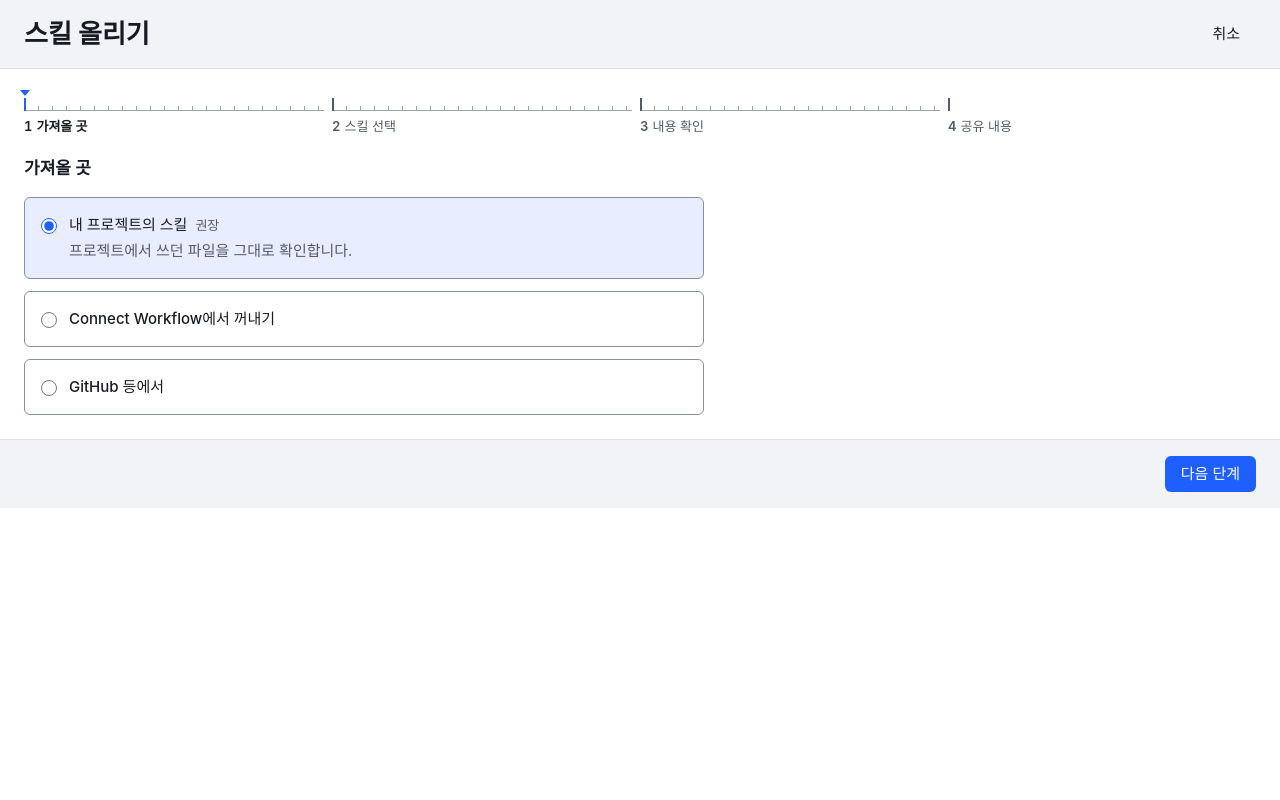
Scenario: registration › offers source skill choices and previews again with the selected name
The width and height of the screenshot is (1280, 800).
Click the radio button labelled "GitHub 등에서".
click(49, 388)  # box top-left (41, 380), bottom-right (57, 396)
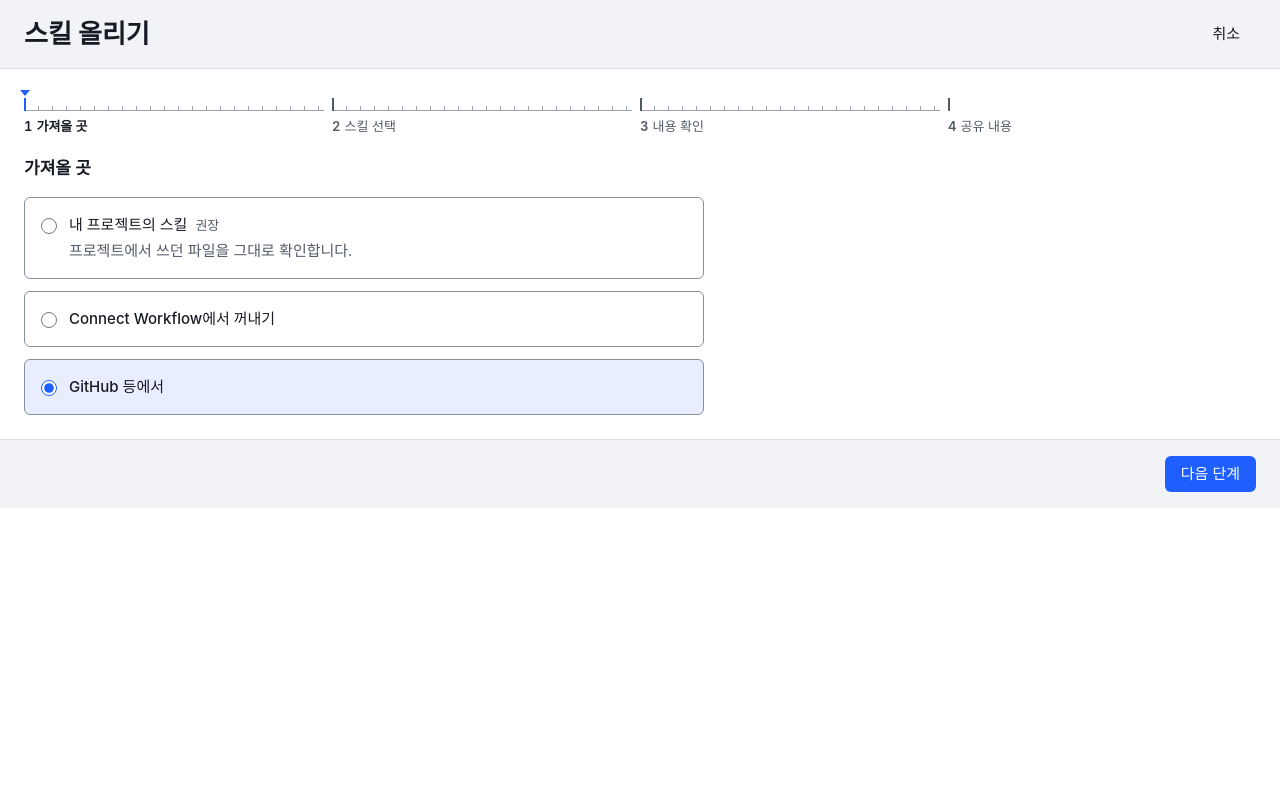
Click the button "다음 단계".
click(1210, 474)  # box top-left (1165, 456), bottom-right (1256, 492)
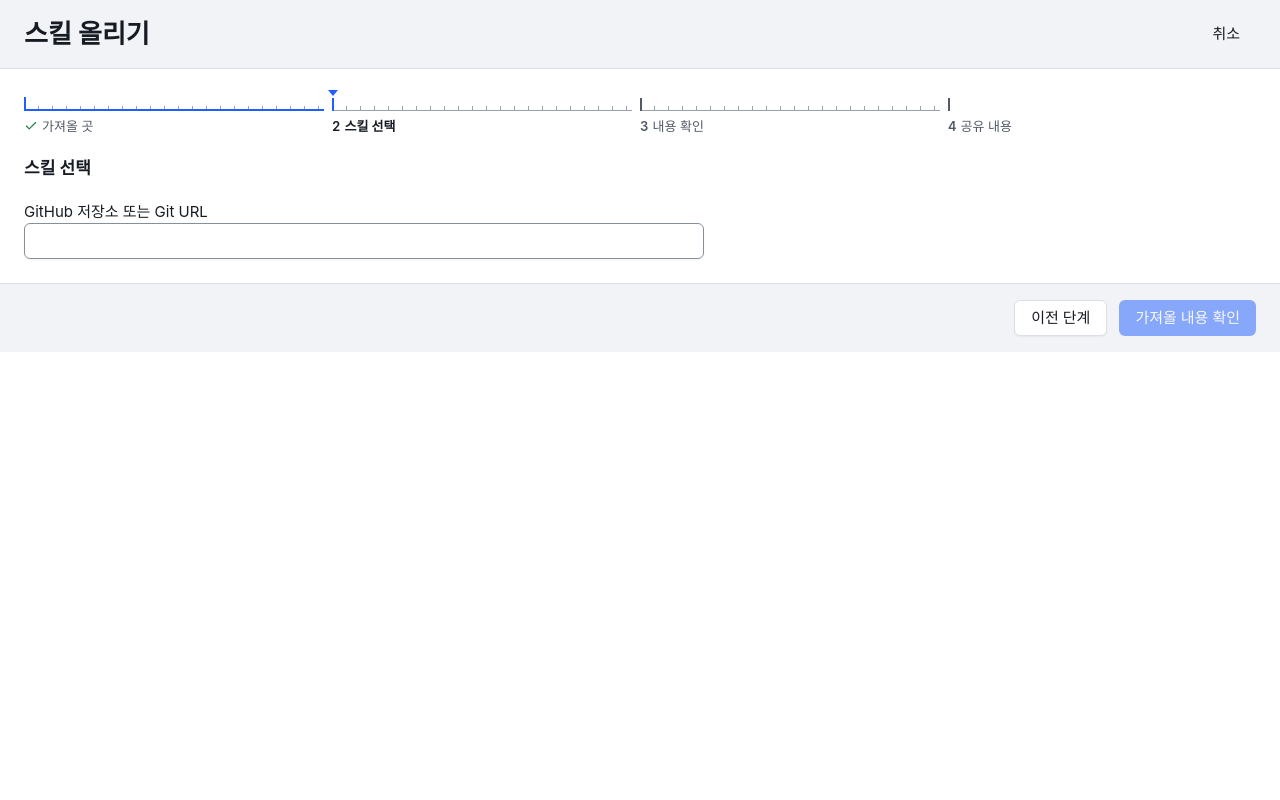
Type "owner/repo" into the field labelled "GitHub 저장소 또는 Git URL".
click(364, 241); type("owner/repo")  # box top-left (24, 223), bottom-right (704, 259)
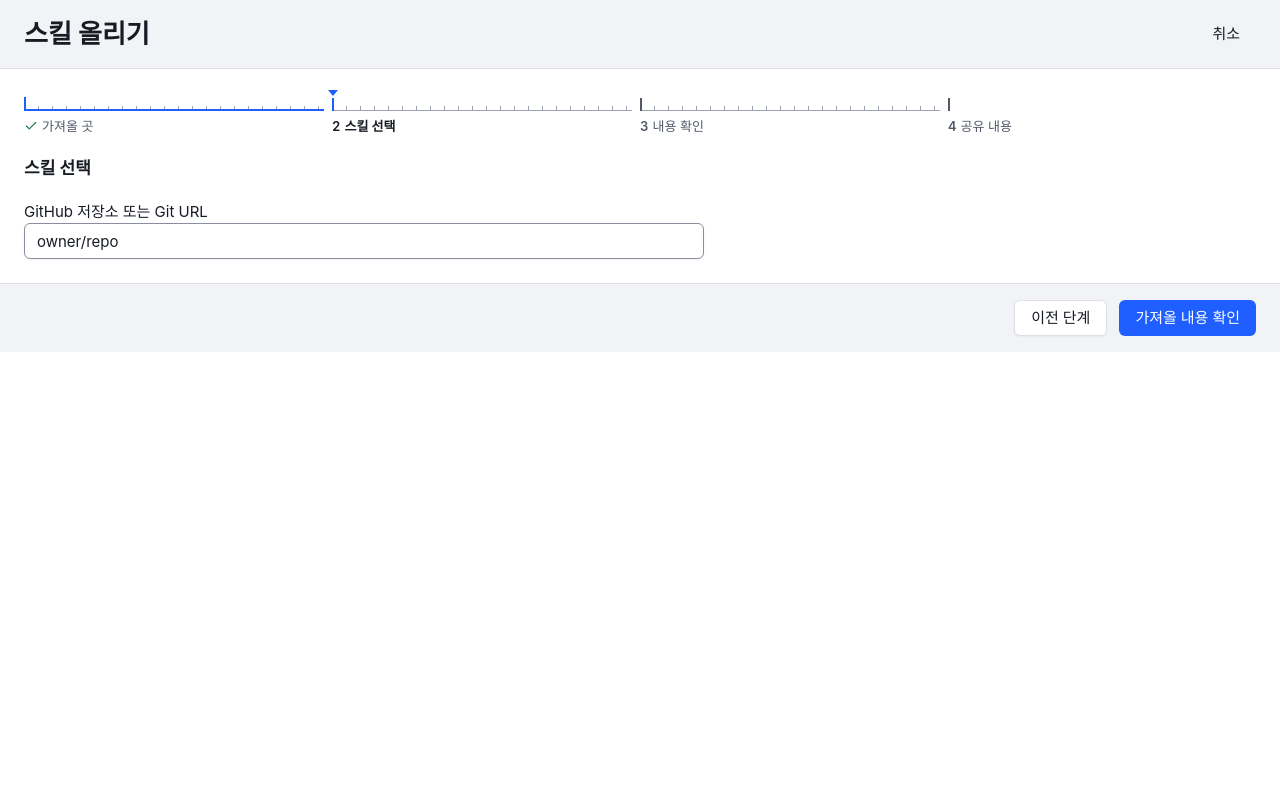
Click the button "가져올 내용 확인".
click(1188, 318)  # box top-left (1119, 300), bottom-right (1256, 336)
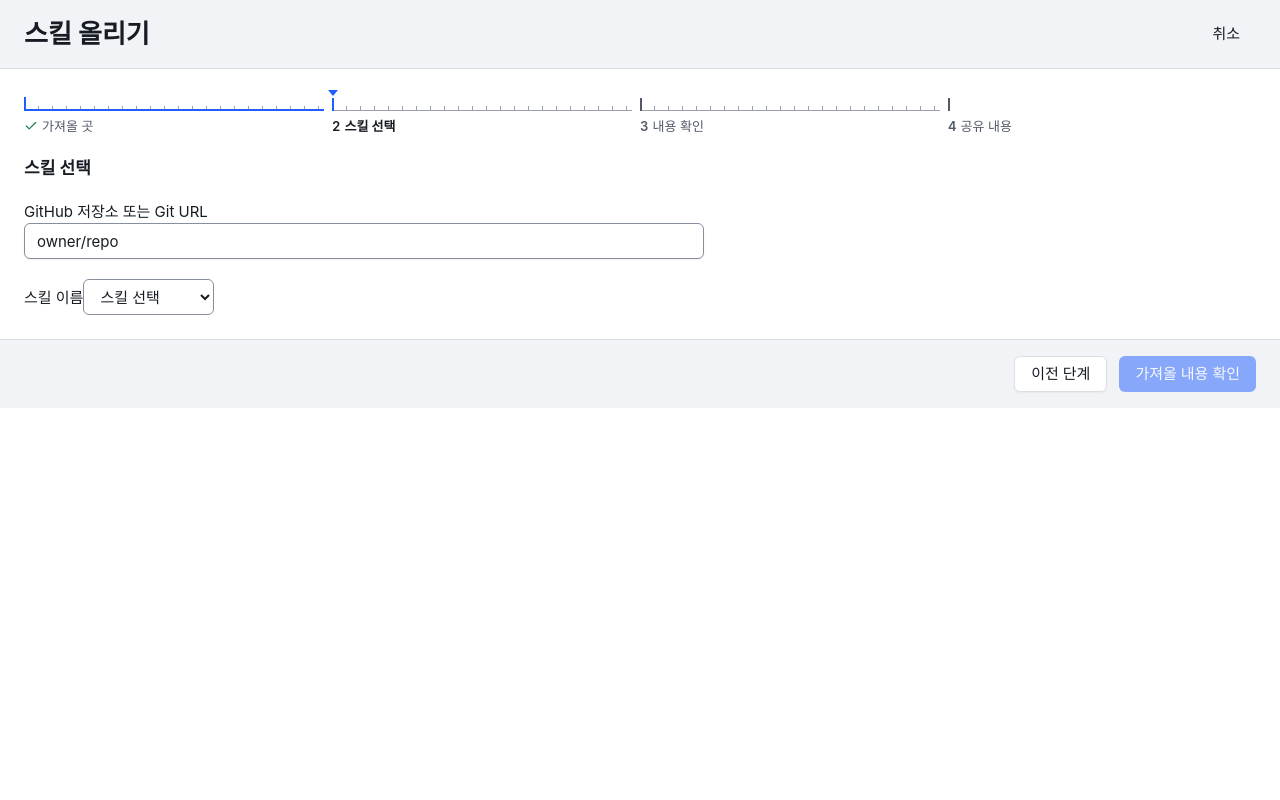
Select "table-check" in the dropdown labelled "스킬 이름" at point(149, 297), box top-left (83, 279), bottom-right (214, 315)
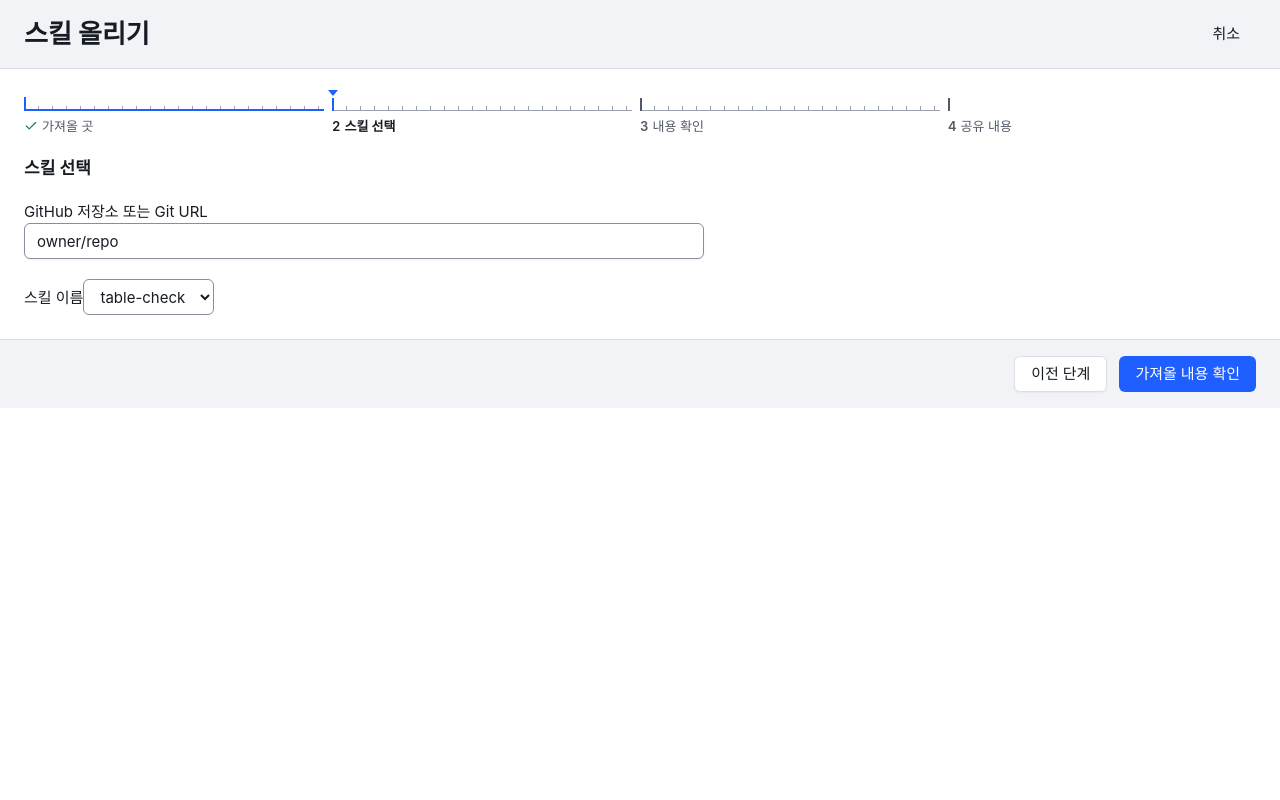
Click the button "가져올 내용 확인".
click(1188, 374)  # box top-left (1119, 356), bottom-right (1256, 392)
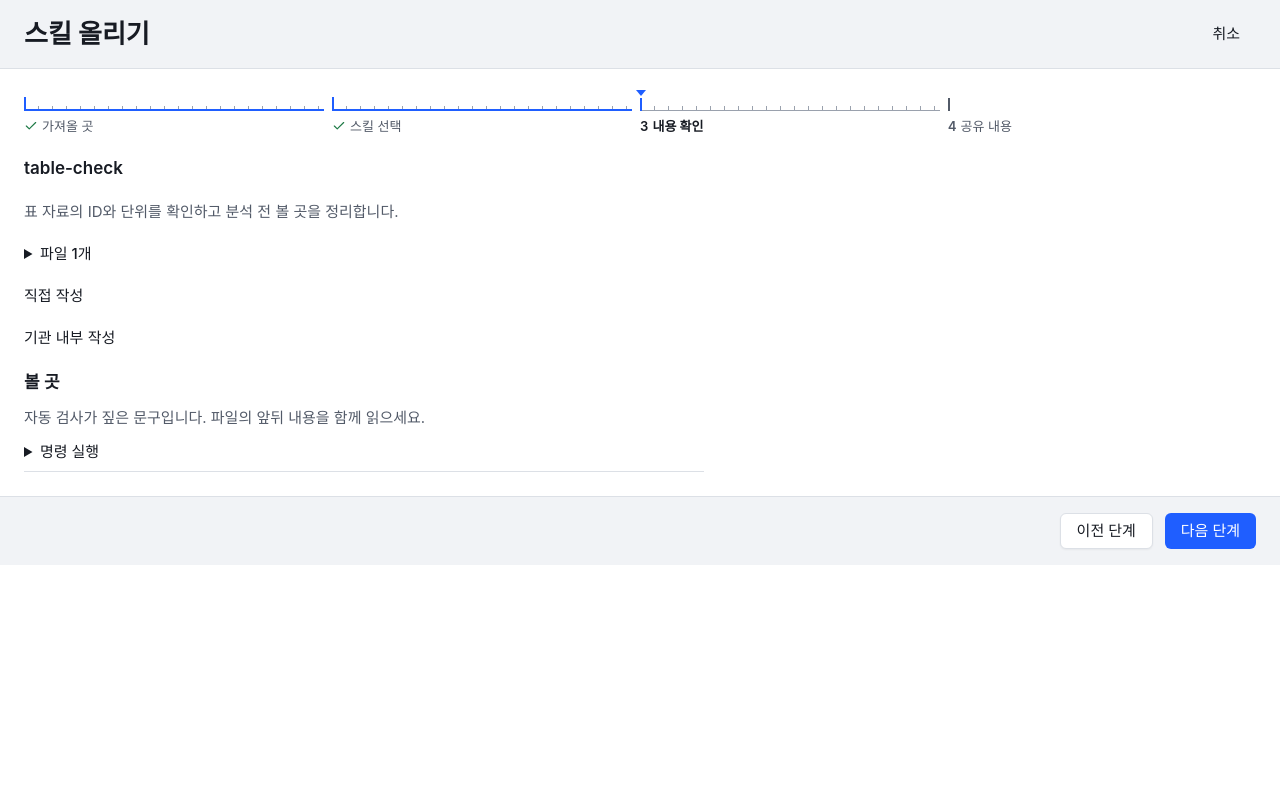
Expected: the element named "올릴 내용 미리보기" is shown, top-left (24, 155), bottom-right (704, 472)
